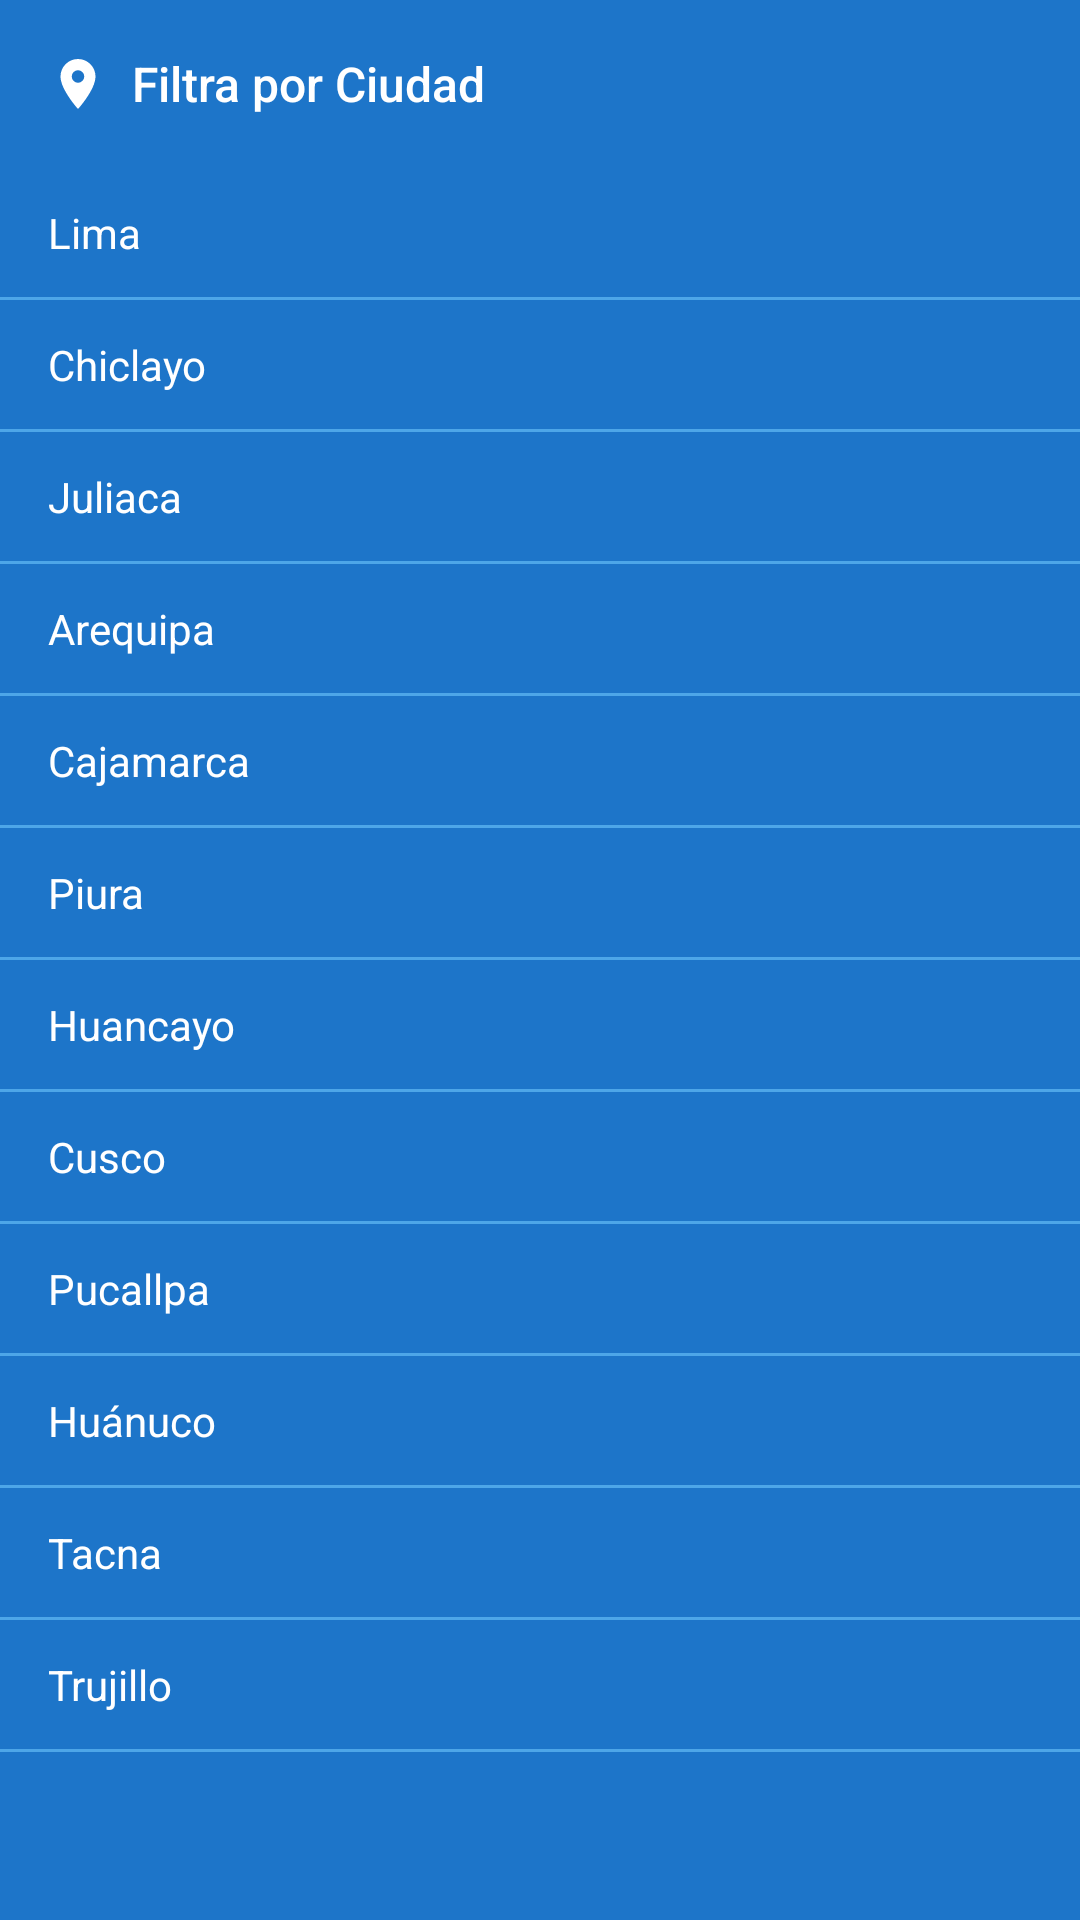

Named icons in this screenshot (1080 x 1920) and their bounding boxes, {"left": x1, "top": y1, "right": x2, "bottom": y2}:
location: {"left": 60, "top": 59, "right": 96, "bottom": 109}
